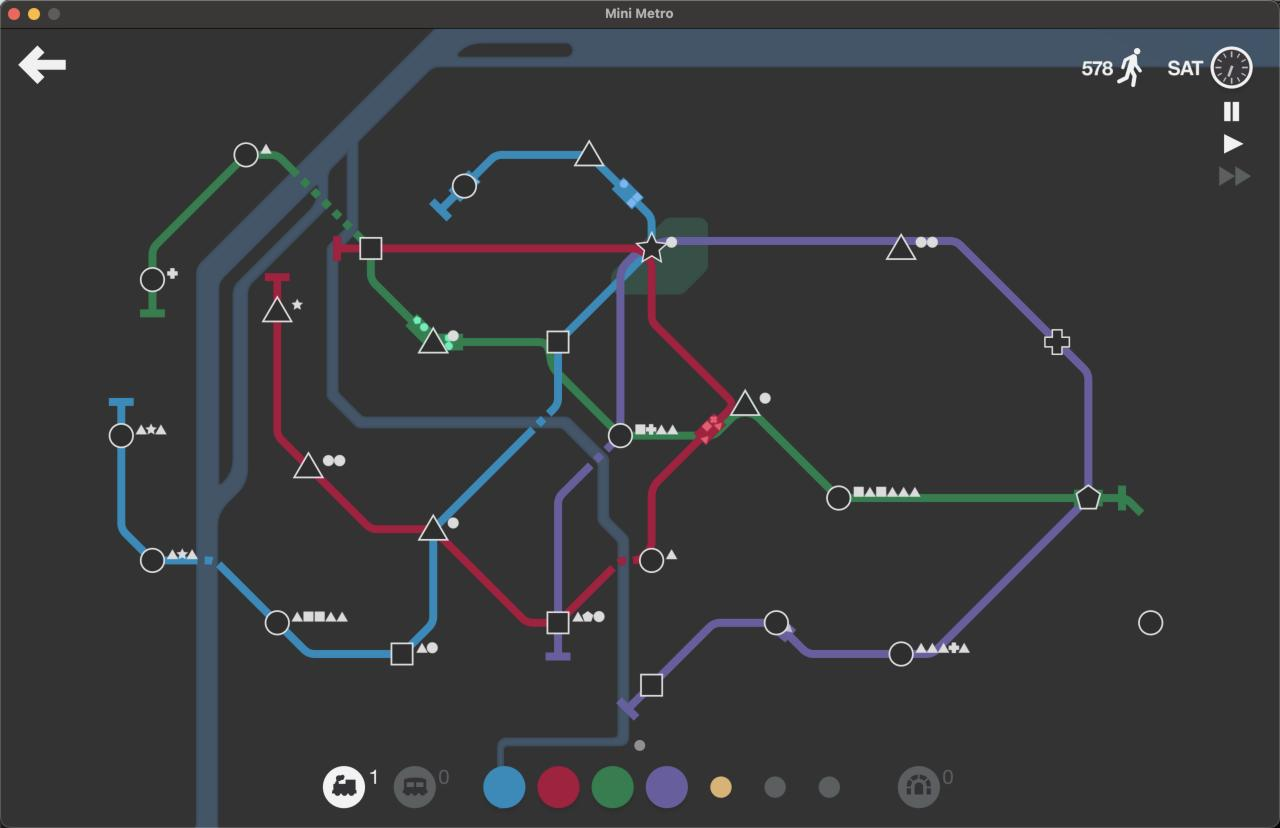CIRCLE: (825, 484, 852, 512), (1138, 609, 1165, 637), (763, 610, 791, 637), (451, 172, 478, 200), (607, 422, 634, 449), (139, 266, 166, 293), (108, 422, 135, 449), (888, 640, 914, 667), (264, 609, 290, 636), (140, 547, 166, 574), (639, 547, 665, 574), (233, 142, 259, 168)
CROSS: (1043, 328, 1070, 355)
PENTAGON: (1074, 484, 1102, 511)
SQUARE: (358, 236, 384, 261), (545, 610, 570, 635), (640, 672, 664, 698), (545, 330, 570, 354), (390, 641, 414, 666)
STAR: (635, 233, 670, 263)
TRIANGLE: (417, 512, 450, 542), (261, 294, 294, 324), (416, 326, 450, 355), (729, 388, 761, 417), (292, 451, 324, 480), (885, 233, 917, 261), (574, 140, 604, 167)
